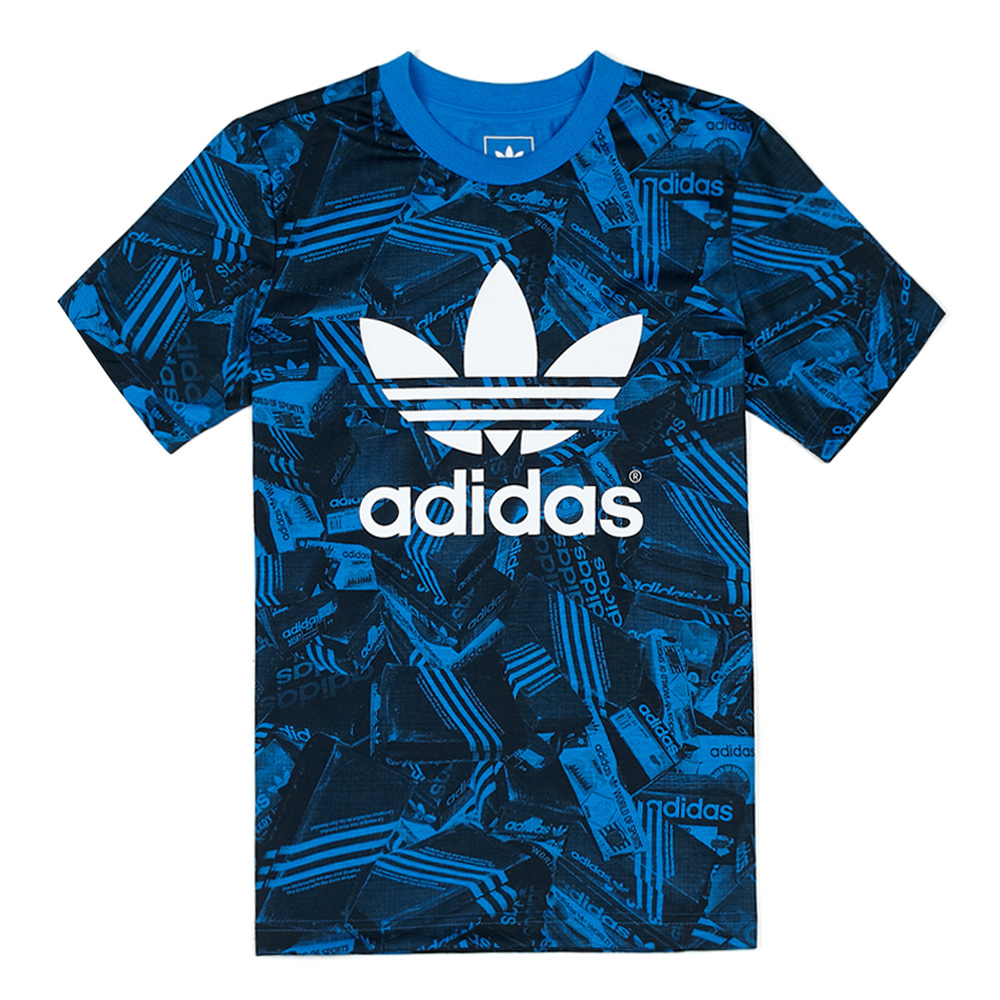flexible: (63, 55, 945, 952)
